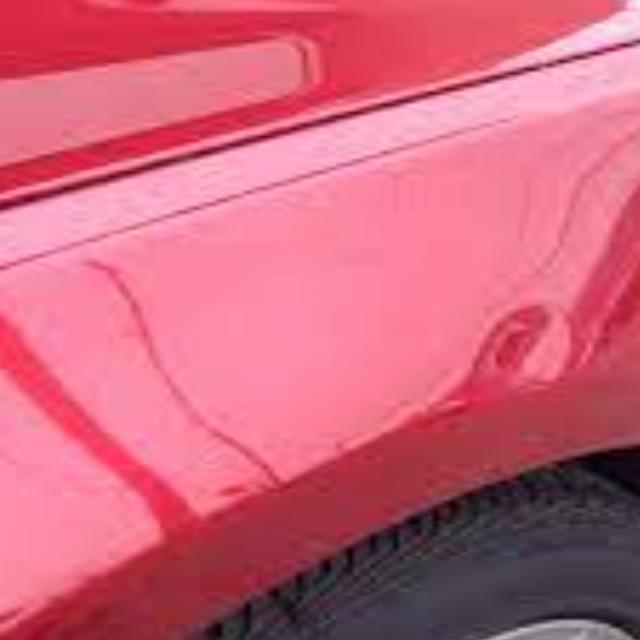dents: (467, 310, 576, 400)
